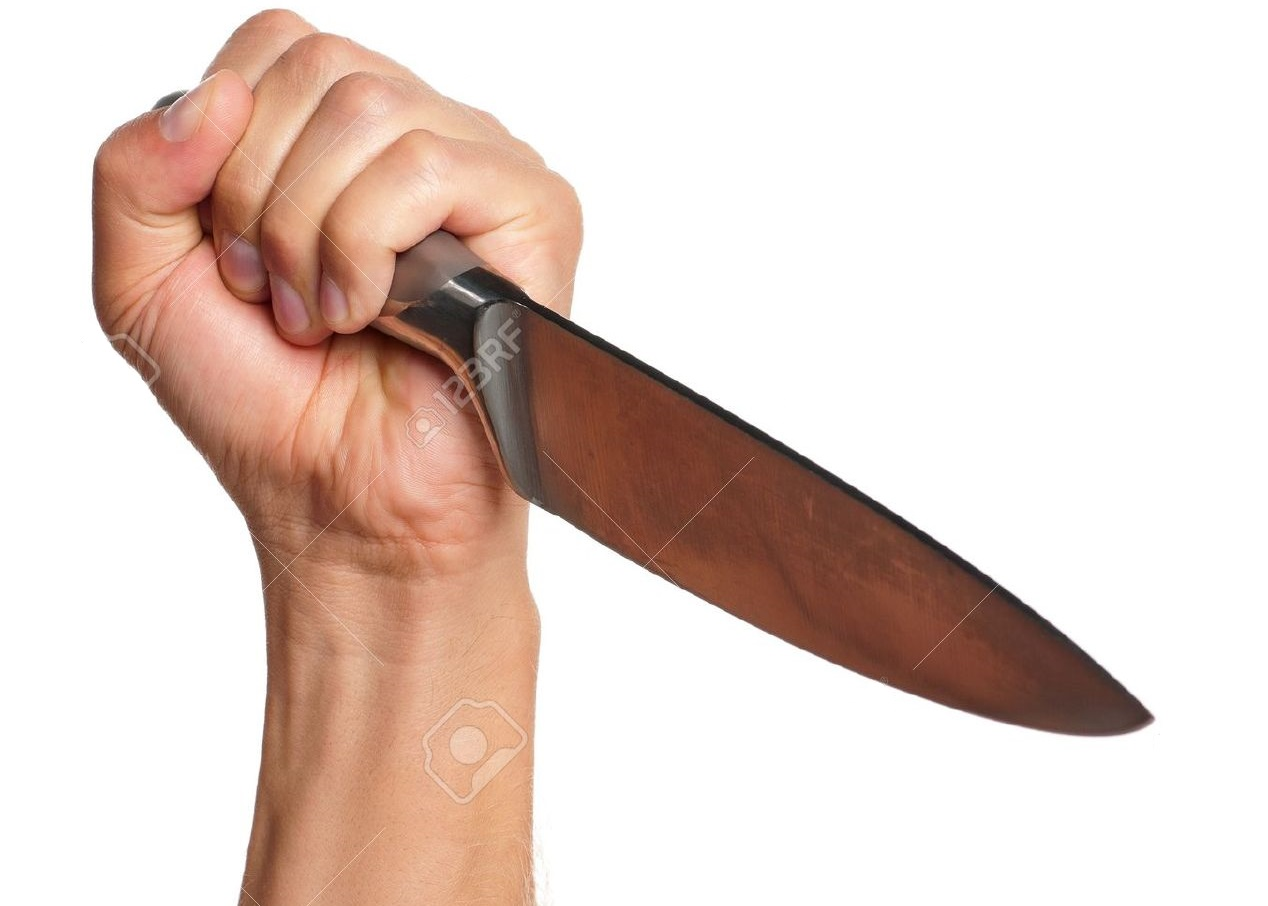knife: (243, 73, 1181, 756)
